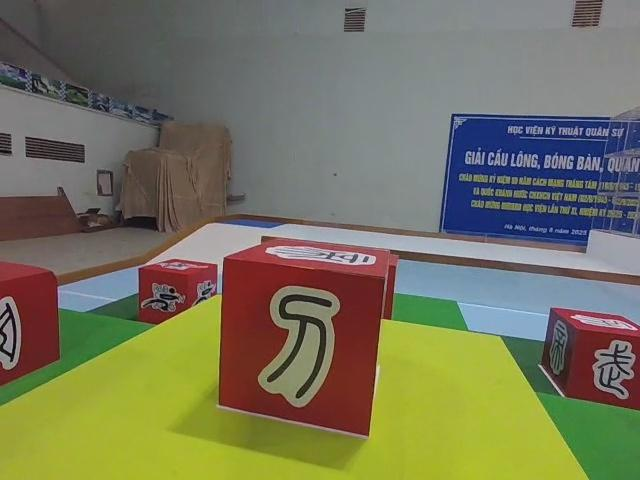R1: (136, 254, 220, 326)
R2 Fake: (216, 236, 394, 439), (537, 304, 640, 411)
R2 Real: (0, 256, 62, 387)
